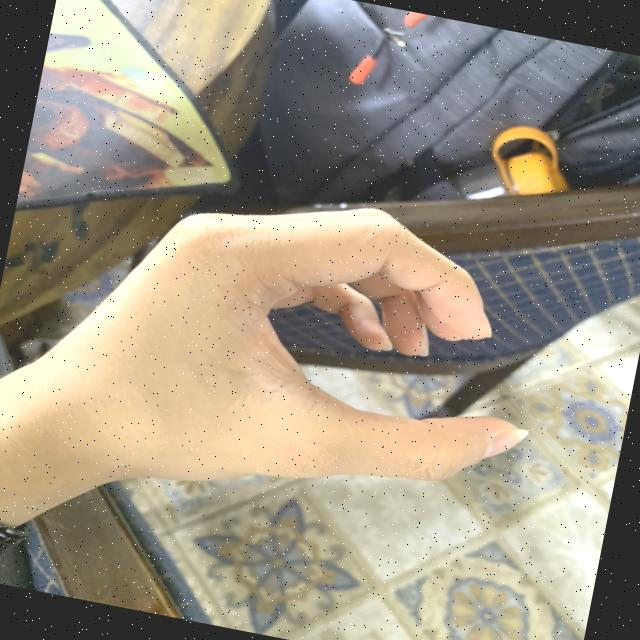no: (108, 148, 578, 544)
